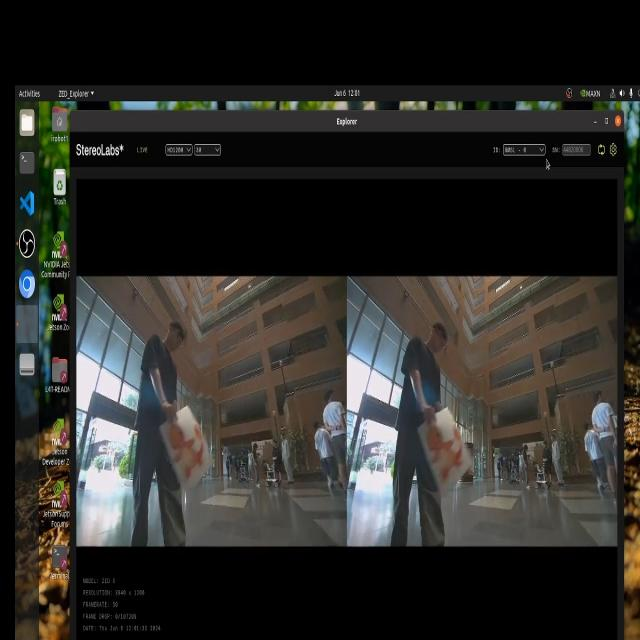red: (424, 416, 471, 488), (162, 414, 210, 475)
